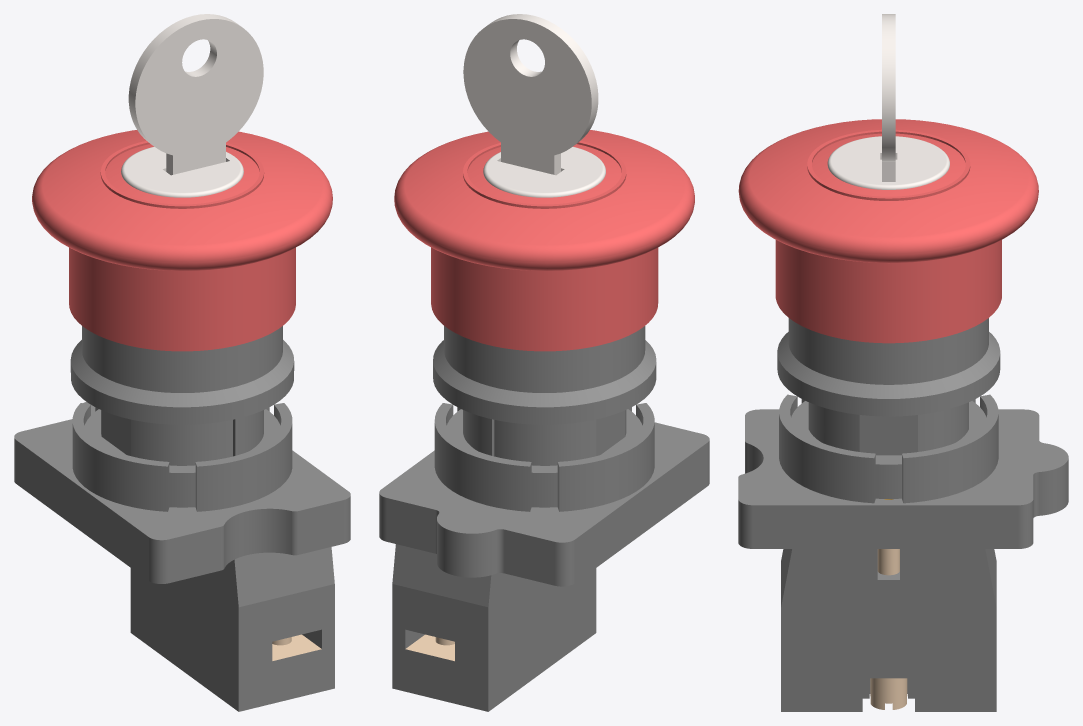
The model's file is metaltex-p20acr-r-1b.glb.
The picture shows the model from 3 angles, left to right: view 1: azimuth 30°, elevation 25°; view 2: azimuth 150°, elevation 25°; view 3: azimuth 270°, elevation 25°; orthographic projection.
Visible parts, largest first — view 1: P20ACR-R-1B-1-solid1, P20ACR-R-1B-1-solid2; view 2: P20ACR-R-1B-1-solid1, P20ACR-R-1B-1-solid2; view 3: P20ACR-R-1B-1-solid1, P20ACR-R-1B-1-solid2.
Boxes of the visible parts, x1=… form: P20ACR-R-1B-1-solid1: x1=14, y1=14, x2=350, y2=583; P20ACR-R-1B-1-solid2: x1=130, y1=547, x2=334, y2=711; P20ACR-R-1B-1-solid1: x1=379, y1=14, x2=709, y2=586; P20ACR-R-1B-1-solid2: x1=392, y1=544, x2=596, y2=711; P20ACR-R-1B-1-solid1: x1=738, y1=14, x2=1068, y2=548; P20ACR-R-1B-1-solid2: x1=781, y1=549, x2=996, y2=711.
Bounding box in the file's own units: 0.0404 × 0.0966 × 0.0444.
